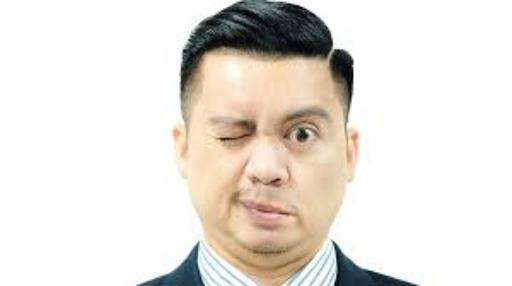left_eye: (285, 127, 324, 146)
left_lip_corner: (285, 209, 302, 223)
right_eye: (211, 128, 254, 144)
right_lip_corner: (239, 199, 251, 211)
